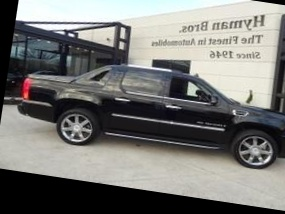car: (4, 38, 285, 191)
